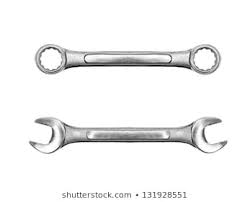Wrench: (29, 95, 241, 162), (18, 28, 230, 82)
